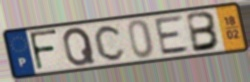0: (126, 17, 157, 60)
B: (185, 10, 222, 55)
C: (93, 23, 127, 62)
E: (153, 13, 193, 57)
F: (27, 28, 60, 72)
Q: (61, 26, 97, 68)
